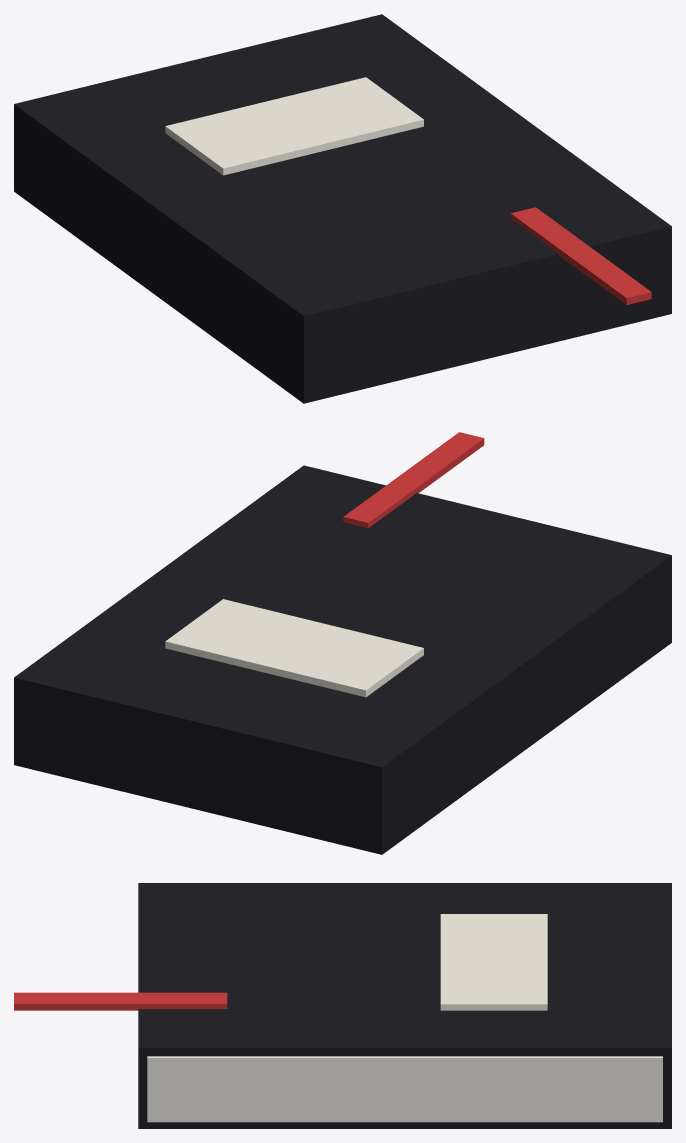
File: other_ledger.glb
3 renders of one model, top to bottom at view 1: azimuth 30°, elevation 25°; view 2: azimuth 150°, elevation 25°; view 3: azimuth 270°, elevation 25°, orthographic. The views are drawn at different scales.
Visible parts, largest first — view 1: cover_ledger_black, label_ledger_label, ribbon_ledger_ribbon; view 2: cover_ledger_black, label_ledger_label, ribbon_ledger_ribbon; view 3: cover_ledger_black, pages_white, label_ledger_label, ribbon_ledger_ribbon.
Part boxes in pixels (<box>): cover_ledger_black: <box>14,14,671,403</box>; label_ledger_label: <box>165,77,423,175</box>; ribbon_ledger_ribbon: <box>510,207,651,304</box>; cover_ledger_black: <box>14,465,671,854</box>; label_ledger_label: <box>165,599,423,697</box>; ribbon_ledger_ribbon: <box>343,432,484,528</box>; cover_ledger_black: <box>138,883,671,1128</box>; pages_white: <box>147,1056,662,1122</box>; label_ledger_label: <box>440,914,547,1010</box>; ribbon_ledger_ribbon: <box>14,992,227,1010</box>.
Bounding box in the file's own units: 0.222 × 0.054 × 0.37.
